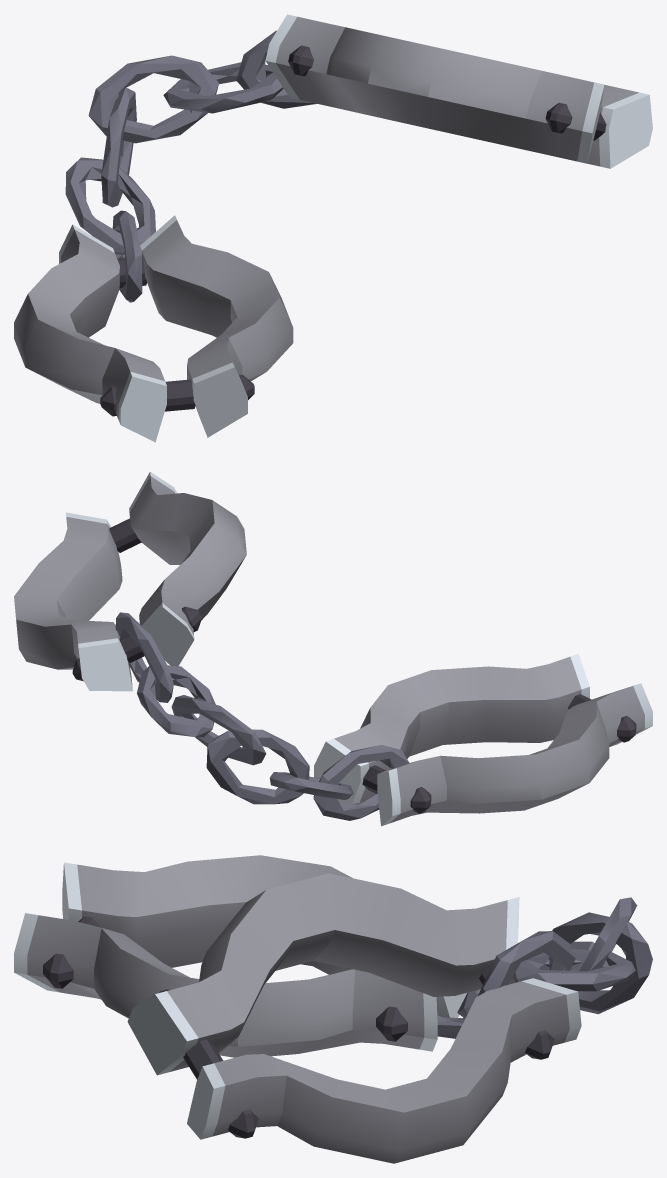
The model's file is shackled.fbx.
3 renders of one model, top to bottom at view 1: azimuth 30°, elevation 25°; view 2: azimuth 150°, elevation 25°; view 3: azimuth 270°, elevation 25°, orthographic. The views are drawn at different scales.
Parts seen in each view (by area): view 1: Shackles; view 2: Shackles; view 3: Shackles.
Boxes of the visible parts, box(x1,y1,x2,y2) form: Shackles: box(14, 14, 652, 442); Shackles: box(14, 471, 652, 826); Shackles: box(14, 855, 652, 1163).
Size of the model in its own units: 6.11 by 2.34 by 4.65.
